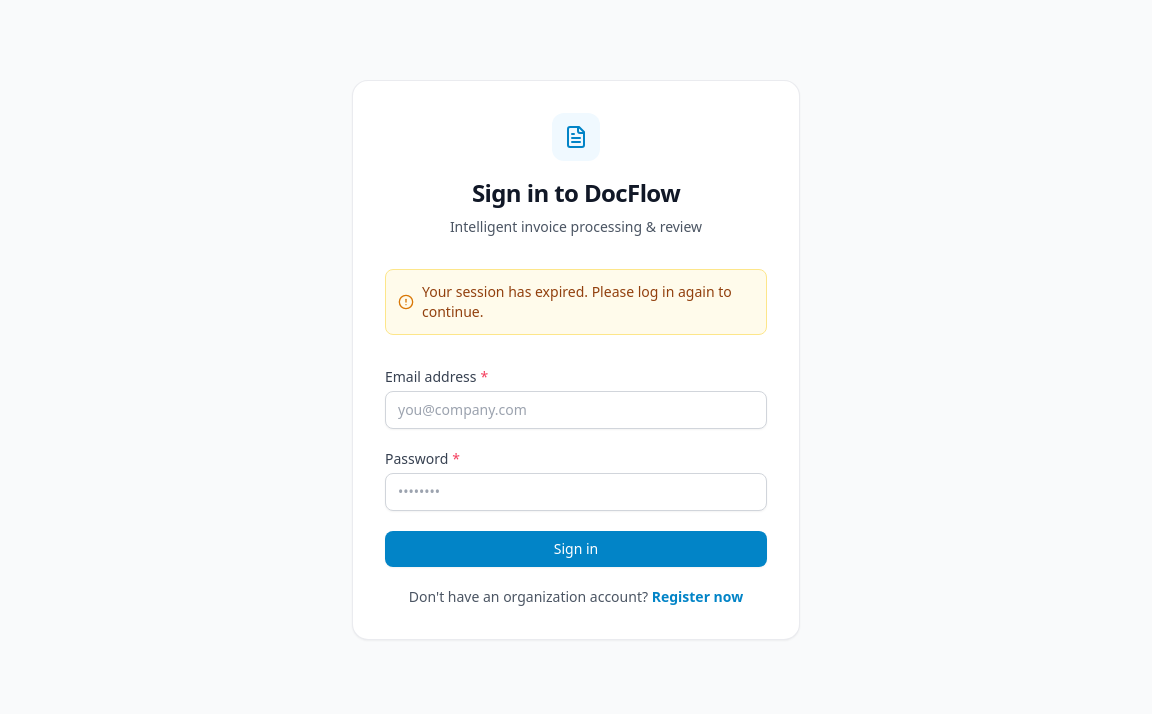
Test case: Navigation & Auth Flows › successful login submits credentials and navigates to Dashboard
This screenshot has width=1152, height=714.
Expected: the heading "Sign in to DocFlow" is shown, left=472, top=176, right=680, bottom=209
In the field labelled "Email address*": (576, 410) left=385, top=391, right=767, bottom=429, type "admin@acme.com"
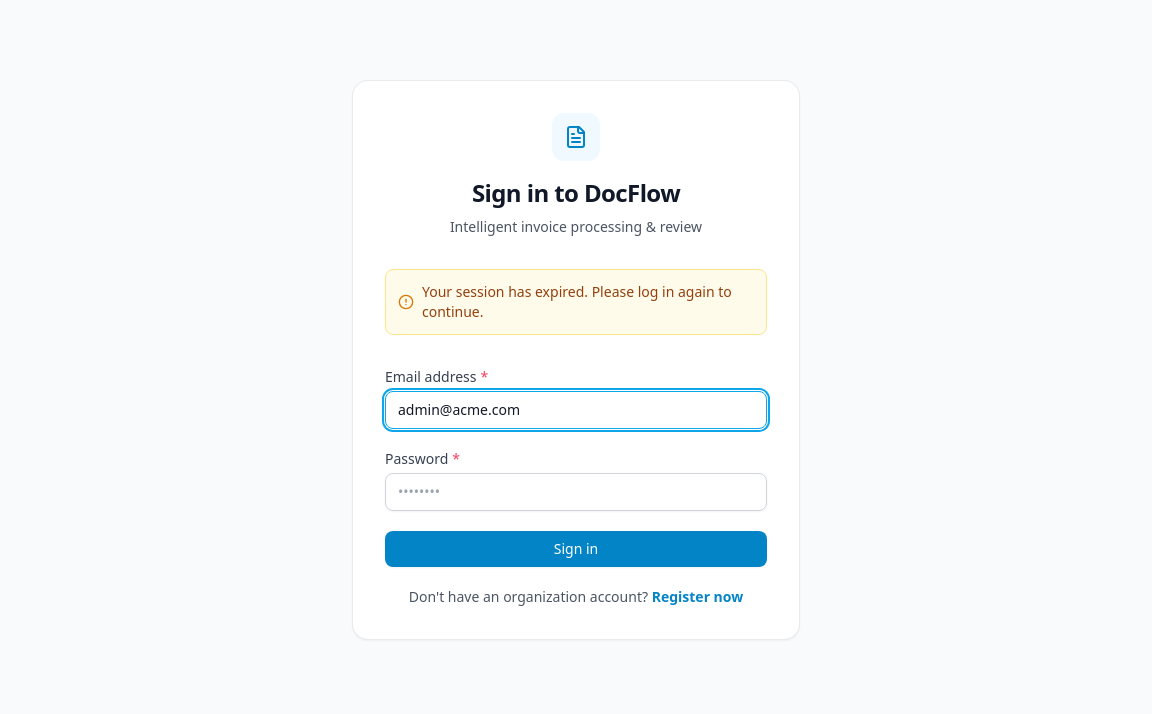
In the password field labelled "Password*": (576, 492) left=385, top=473, right=767, bottom=511, type "password123"
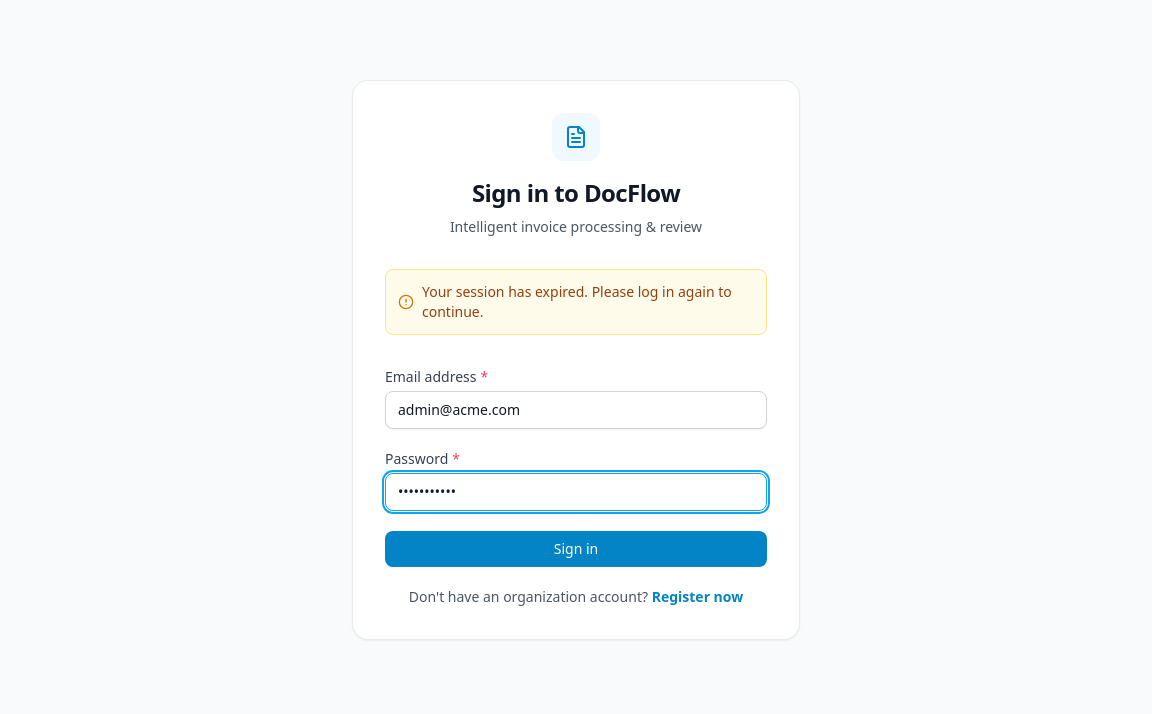
Click the button "Sign in": (576, 549) left=385, top=531, right=767, bottom=567
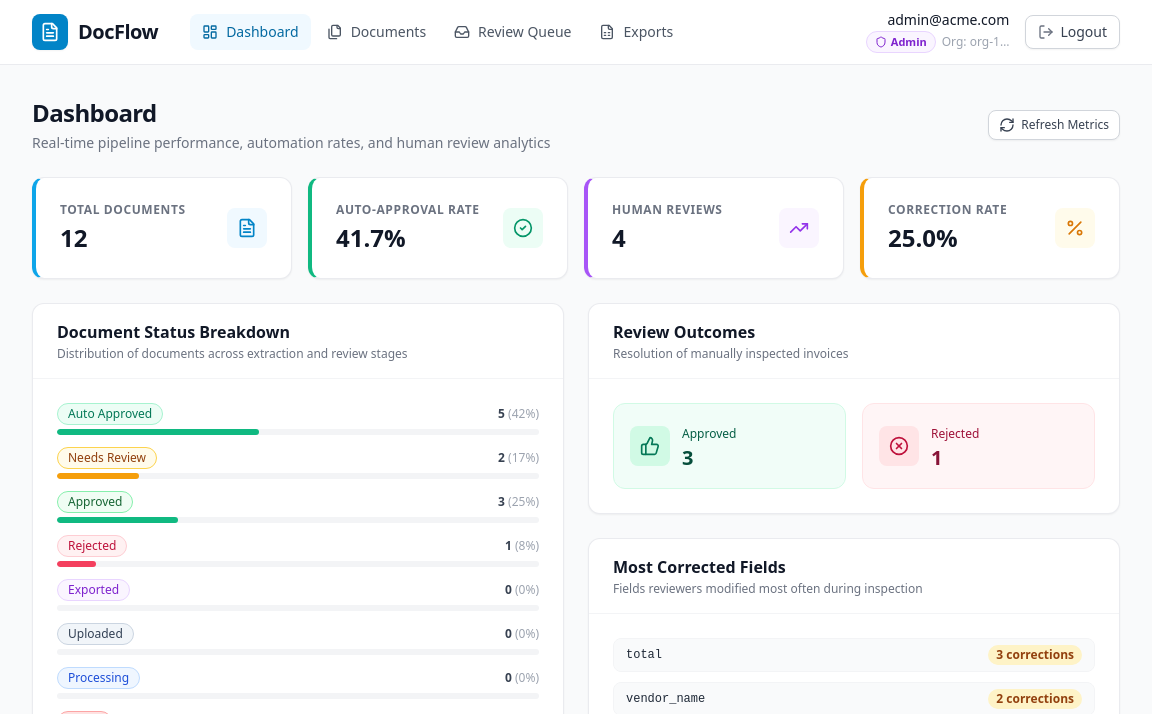
Expected: the heading "Dashboard" is shown, left=32, top=96, right=157, bottom=129
Expected: the text "admin@acme.com" is shown, left=887, top=10, right=1009, bottom=29
